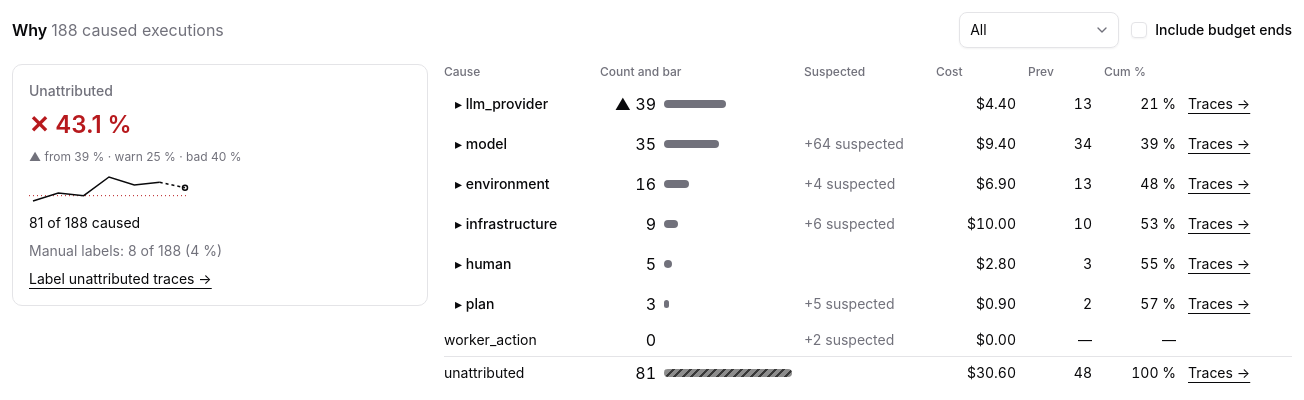
Test: WhySection › adds the budget exits with Include budget ends
Step 1. Click the checkbox named "Include budget ends" → (1139, 30), box x1=1131 y1=22 x2=1147 y2=38
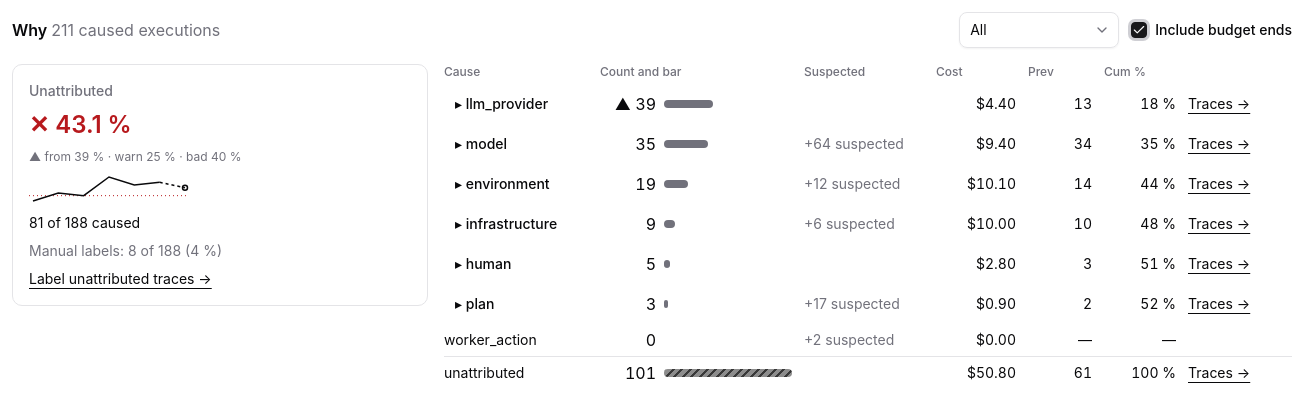
expect the text "81 of 188 caused" is shown: met, box x1=29 y1=214 x2=140 y2=231
expect the heading "Why 211 caused executions" is shown: met, box x1=12 y1=18 x2=220 y2=42
